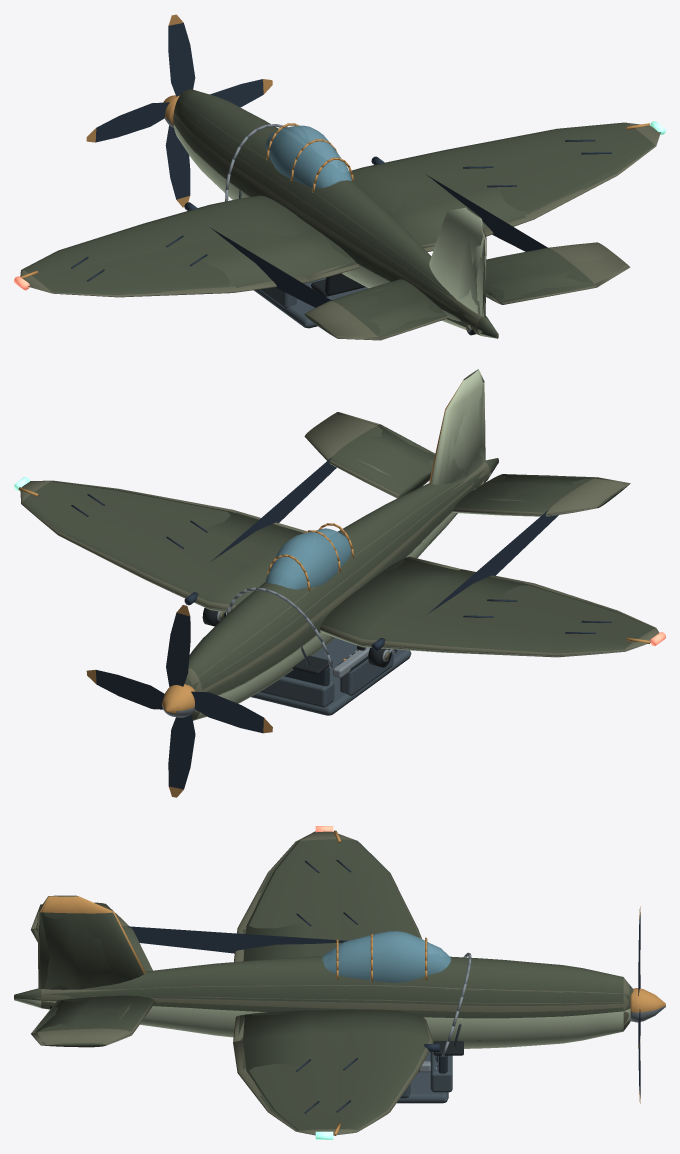
The model's file is spitfire.glb.
The picture shows the model from 3 angles, top to bottom: view 1: azimuth 30°, elevation 25°; view 2: azimuth 150°, elevation 25°; view 3: azimuth 270°, elevation 25°; orthographic projection.
Visible parts, largest first — view 1: Airframe shell mesh, Airframe shell.002 mesh, Airframe shell.001 mesh, Starboard wing, Port wing, Forward fuselage, Central fuselage, Canopy glass, Aft nacelles, Cockpit shell mesh, Canopy glass.001, Prop_0 mesh (+2 smaller); view 2: Airframe shell mesh, Airframe shell.002 mesh, Airframe shell.001 mesh, Cockpit shell mesh, Starboard wing, Prop_0 mesh, Port wing, Central fuselage, Canopy glass, Canopy glass.001, Aft nacelles, Forward fuselage (+1 smaller); view 3: Airframe shell mesh, Airframe shell.002 mesh, Airframe shell.001 mesh, Port wing, Central fuselage, Canopy glass, Starboard wing, Cockpit shell mesh, Canopy glass.001, Aft nacelles, Forward fuselage, Spinner (+2 smaller).
Part boxes in pixels (x1,y1,x2,y2): Airframe shell mesh: [14, 89, 665, 340]; Airframe shell.002 mesh: [29, 104, 660, 338]; Airframe shell.001 mesh: [26, 90, 658, 340]; Starboard wing: [426, 130, 659, 283]; Port wing: [29, 227, 376, 337]; Forward fuselage: [86, 14, 275, 207]; Central fuselage: [225, 123, 451, 287]; Canopy glass: [265, 125, 351, 188]; Aft nacelles: [357, 207, 593, 337]; Cockpit shell mesh: [225, 124, 368, 328]; Canopy glass.001: [266, 126, 350, 187]; Prop_0 mesh: [86, 15, 272, 202]; Airframe shell mesh: [14, 376, 665, 720]; Airframe shell.002 mesh: [27, 370, 658, 712]; Airframe shell.001 mesh: [25, 372, 657, 716]; Cockpit shell mesh: [226, 587, 411, 715]; Starboard wing: [21, 413, 377, 590]; Prop_0 mesh: [87, 605, 272, 797]; Port wing: [404, 478, 657, 651]; Central fuselage: [182, 507, 448, 655]; Canopy glass: [265, 528, 351, 589]; Canopy glass.001: [266, 529, 350, 588]; Aft nacelles: [352, 369, 591, 551]; Forward fuselage: [86, 591, 299, 796]; Airframe shell mesh: [14, 826, 631, 1139]; Airframe shell.002 mesh: [14, 831, 633, 1134]; Airframe shell.001 mesh: [14, 831, 630, 1133]; Port wing: [37, 832, 347, 953]; Central fuselage: [197, 931, 464, 1055]; Canopy glass: [324, 931, 449, 982]; Starboard wing: [37, 1029, 420, 1134]; Cockpit shell mesh: [397, 952, 471, 1103]; Canopy glass.001: [328, 931, 448, 980]; Aft nacelles: [34, 895, 196, 1032]; Forward fuselage: [465, 940, 658, 1103]; Spinner: [630, 988, 665, 1022].
Bounding box in the file's own units: 11.35 × 3.52 × 10.12.
